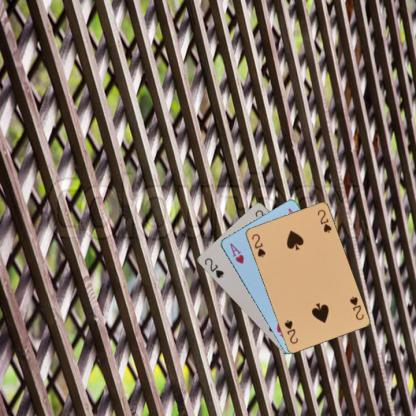2s: (201, 255, 224, 280), (346, 294, 364, 321), (249, 231, 266, 258)
Ah: (227, 240, 245, 265)
